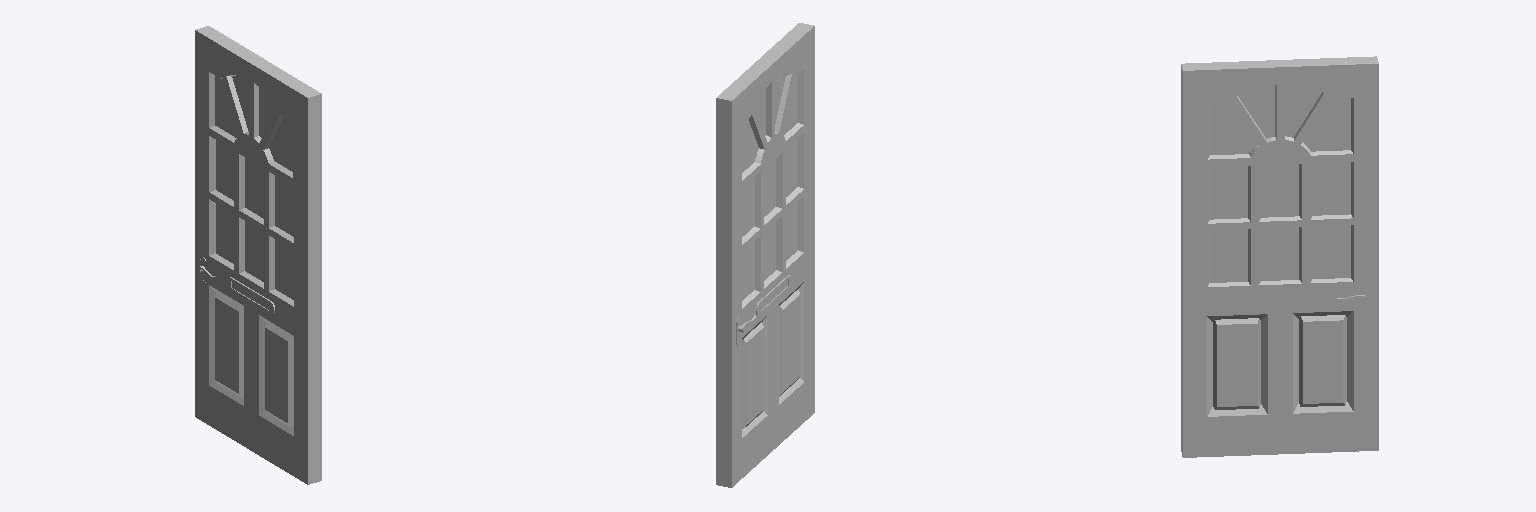
File: door_000004.obj
3 views of the same model, side by side, from view 1: azimuth 30°, elevation 25°; view 2: azimuth 150°, elevation 25°; view 3: azimuth 270°, elevation 25° (orthographic).
Visible parts, largest first — view 1: Door.003; view 2: Door.003; view 3: Door.003.
Boxes of the visible parts, x1=… form: Door.003: x1=195, y1=26, x2=321, y2=484; Door.003: x1=716, y1=23, x2=814, y2=487; Door.003: x1=1181, y1=56, x2=1378, y2=457.
Bounding box in the file's own units: 0.1509 × 1.6 × 0.7423.